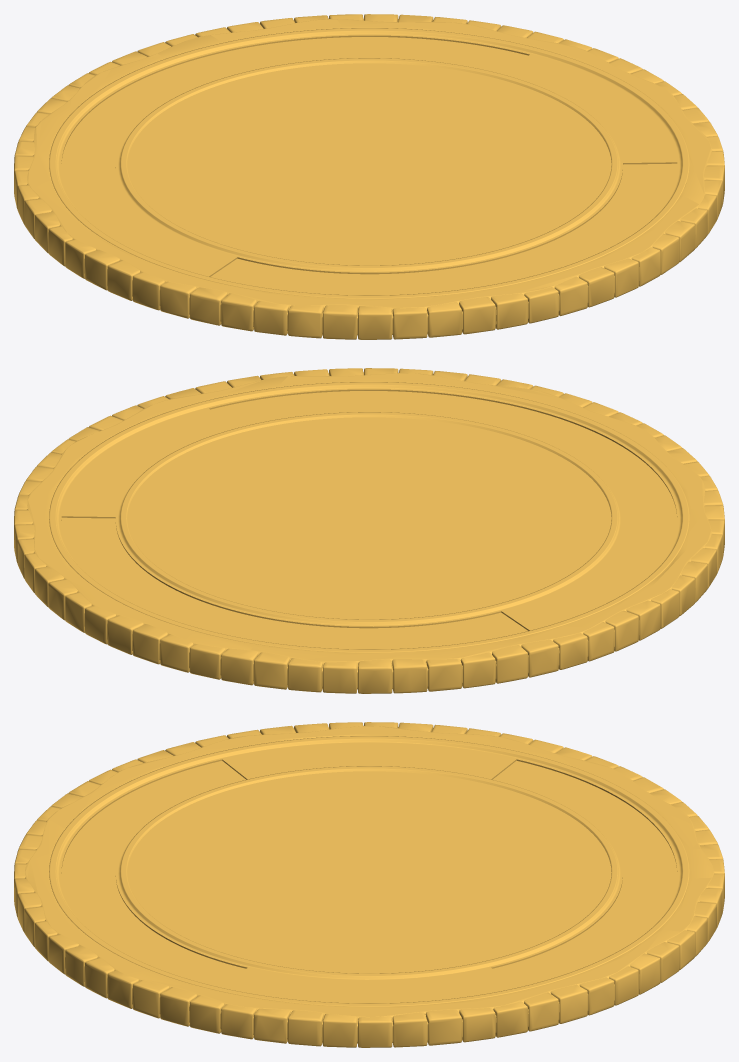
The model's file is Coin11-feb-old.glb.
3 renders of one model, top to bottom at view 1: azimuth 30°, elevation 25°; view 2: azimuth 150°, elevation 25°; view 3: azimuth 270°, elevation 25°, orthographic.
Visible parts, largest first — view 1: Front_Image_Placeholder, Top Face.001, Grid.001, Curve wave.001, Front_Bottom_Text_Area, Front_Top_Text_Area; view 2: Front_Image_Placeholder, Top Face.001, Grid.001, Curve wave.001, Front_Top_Text_Area, Front_Bottom_Text_Area; view 3: Front_Image_Placeholder, Top Face.001, Grid.001, Curve wave.001, Front_Top_Text_Area, Front_Bottom_Text_Area.
Boxes of the visible parts, x1,y1,x2,y2 form: Front_Image_Placeholder: (127,63,611,265); Top Face.001: (49,28,689,298); Grid.001: (14,14,724,339); Curve wave.001: (27,18,712,335); Front_Bottom_Text_Area: (209,162,677,295); Front_Top_Text_Area: (61,35,529,168); Front_Image_Placeholder: (127,417,611,619); Top Face.001: (49,382,689,652); Grid.001: (14,368,724,693); Curve wave.001: (27,372,712,689); Front_Top_Text_Area: (61,516,529,649); Front_Bottom_Text_Area: (209,389,677,522); Front_Image_Placeholder: (127,771,611,973); Top Face.001: (49,736,689,1006); Grid.001: (14,722,724,1047); Curve wave.001: (25,726,714,1043); Front_Top_Text_Area: (491,759,677,987); Front_Bottom_Text_Area: (61,759,247,987).
Size of the model in its own units: 0.0206 by 0.000868 by 0.0206.
4 materials, 4 textured.
